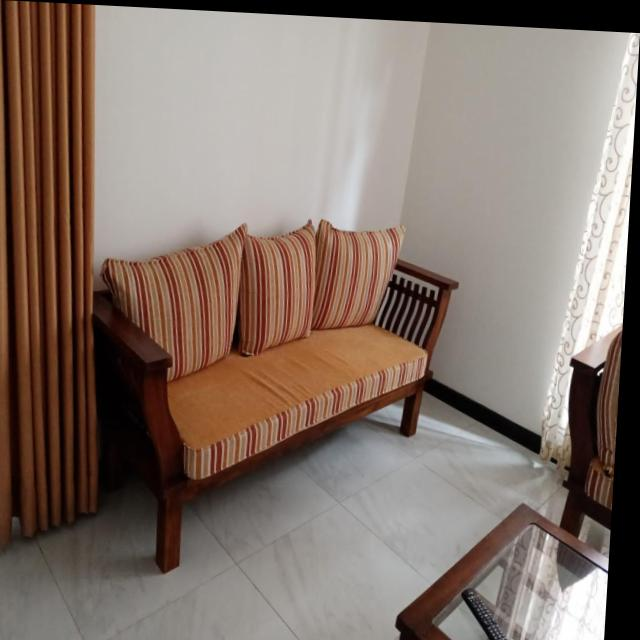Sofa: (73, 214, 461, 581)
